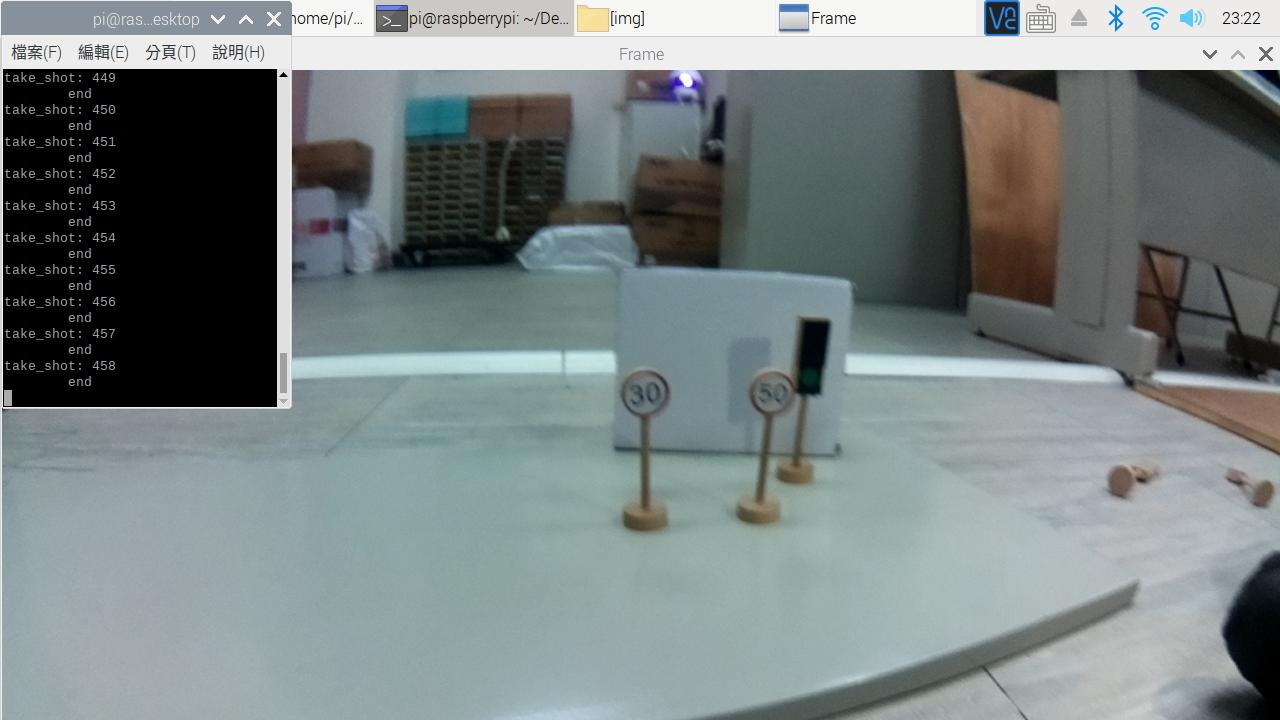Green: (791, 311, 830, 403)
Speed30: (618, 368, 674, 418)
Speed50: (747, 369, 795, 418)
